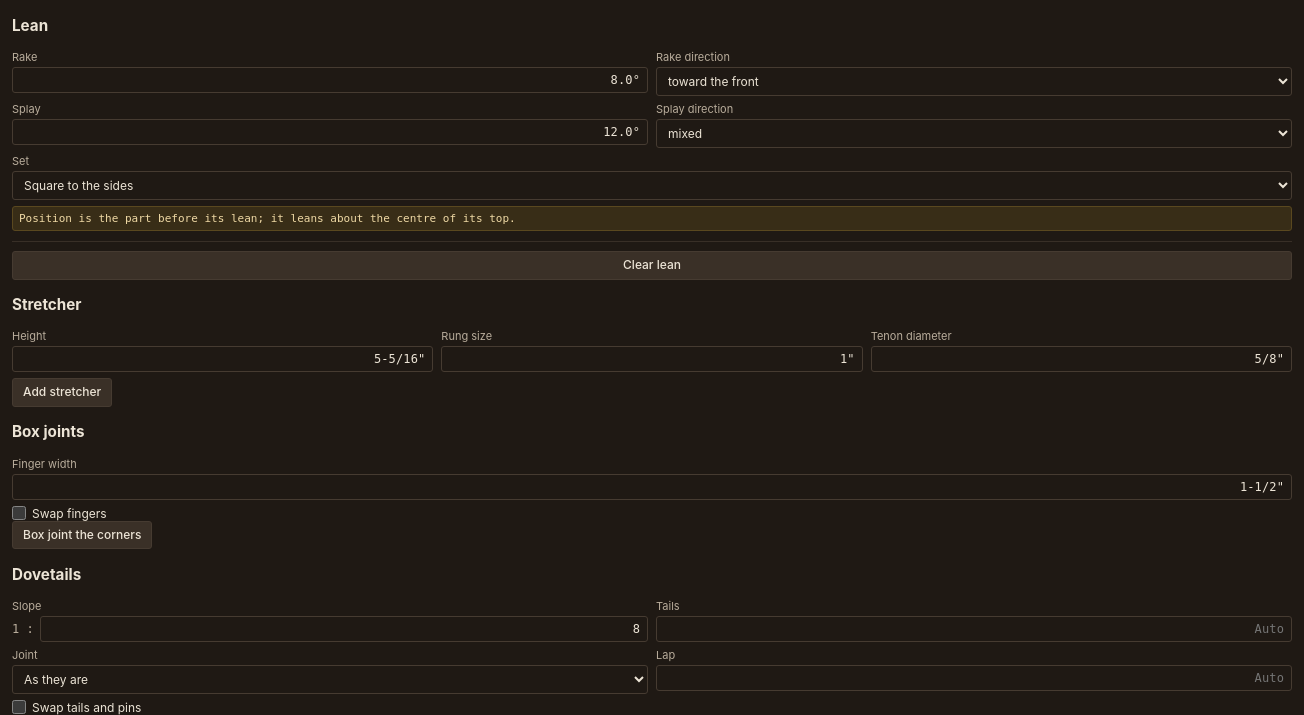
Test: the Stretcher section (stretchers spec §4) › a refusal shows the planner's sentence verbatim as an alert and changes nothing; a field change clears it
(page scrolled)
Replace the text in the field labelled "Height" with "16-1/2": (223, 359) [12, 346, 433, 372]
Then press Enter
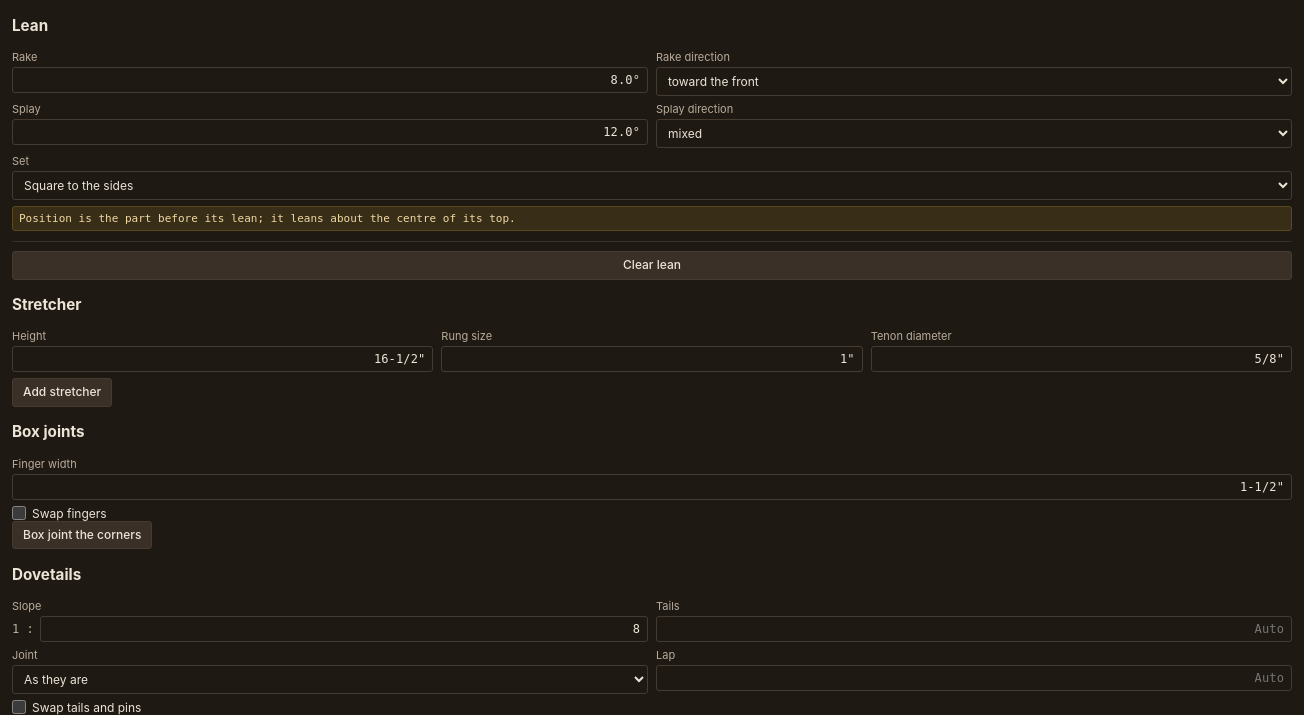
Click the button "Add stretcher": (62, 393) [12, 378, 112, 407]
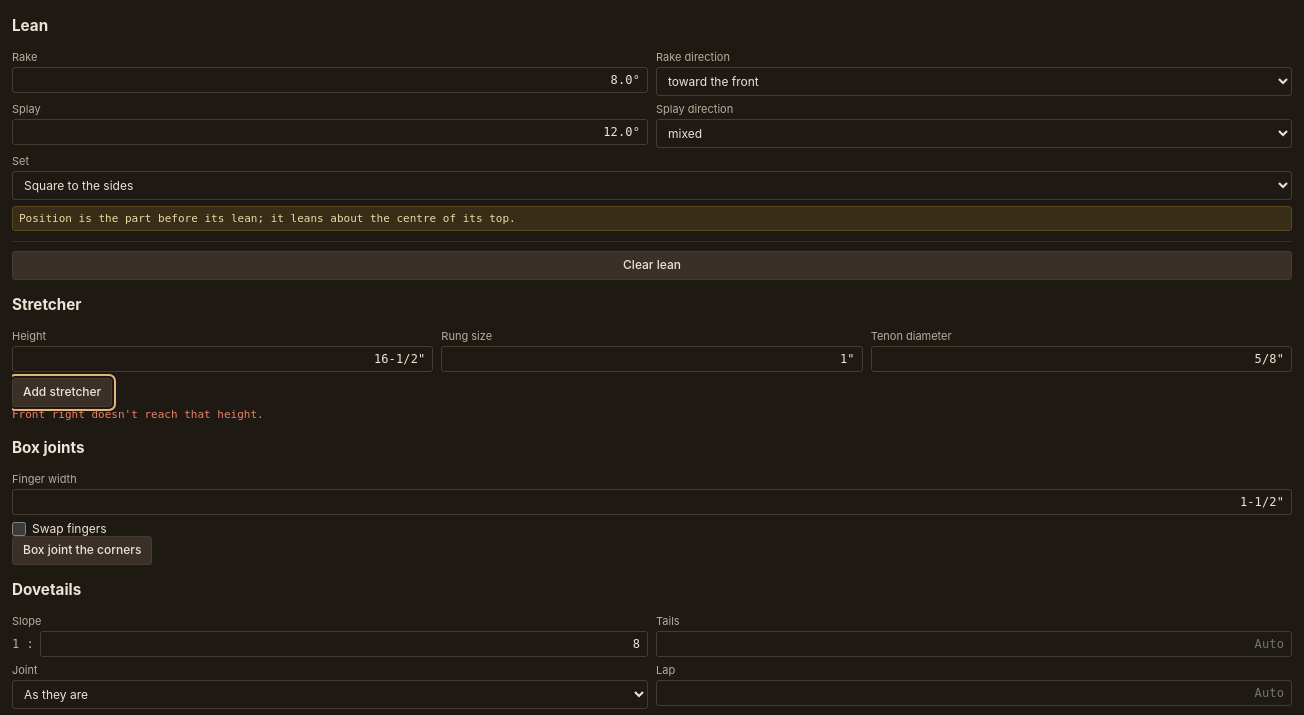
Replace the text in the field labelled "Rung size" with "3/4": (652, 359) [441, 346, 863, 372]
Then press Enter
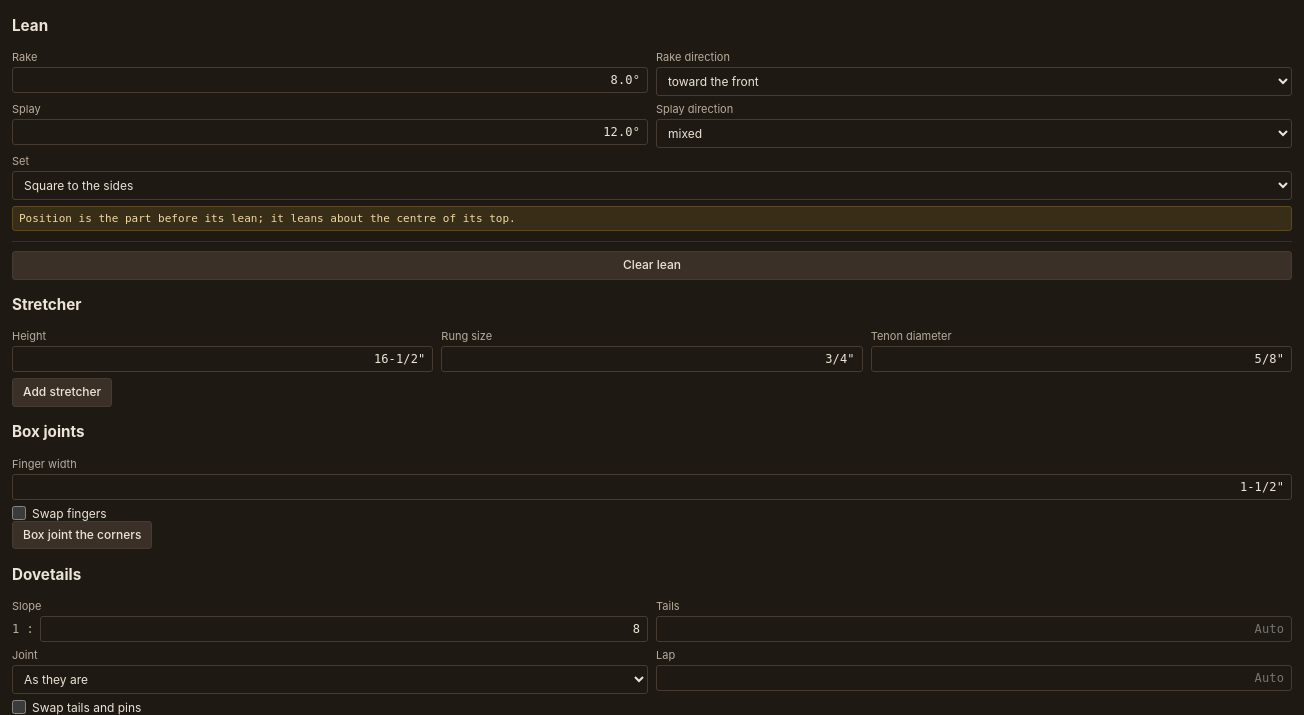
Expected: the message "Front right doesn't reach that height." is gone
